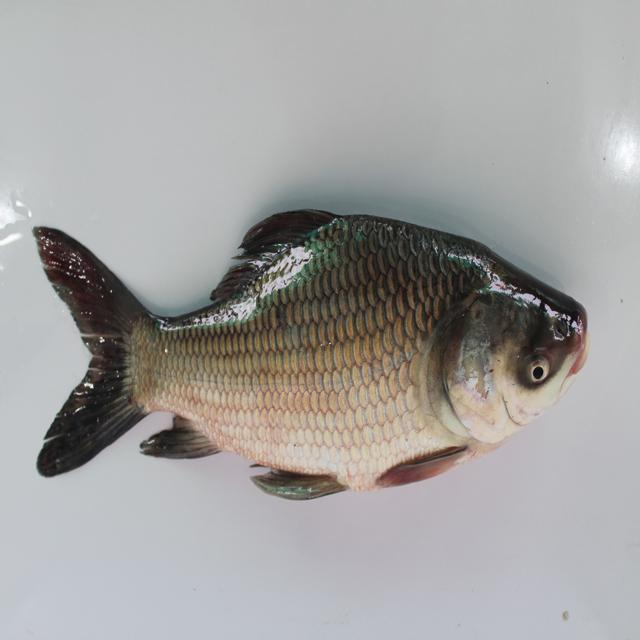Catla: (22, 202, 599, 531)
